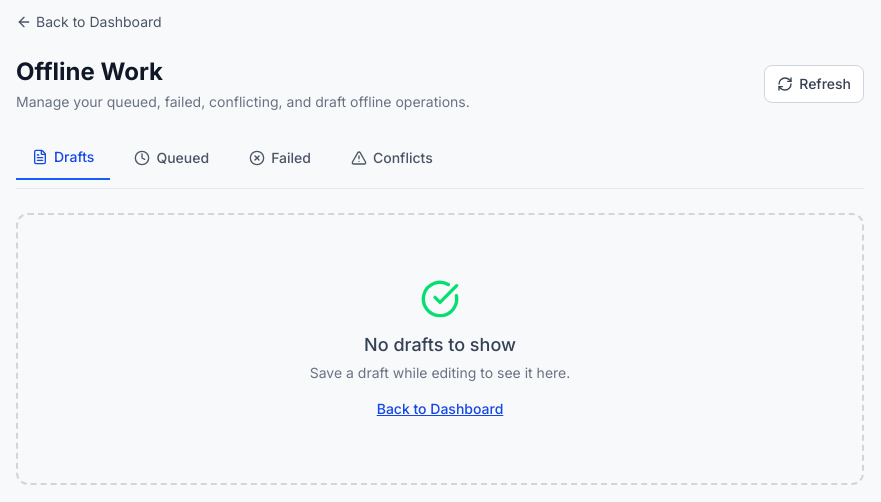
OfflineWorkPage › renders empty states for each section
The image size is (881, 502).
Check: the text "No drafts to show" is shown, box [364, 331, 516, 359]
Switch to Queued tab
Click the tab "Queued": (172, 158) [118, 136, 225, 180]
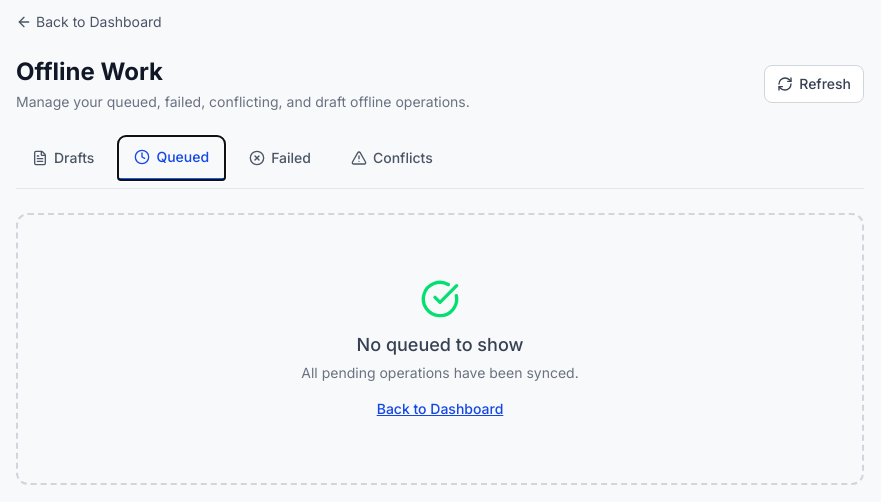
Check: the text "No queued to show" is shown, box [357, 331, 523, 359]
Switch to Failed tab
Click the tab "Failed": (280, 158) [233, 136, 327, 180]
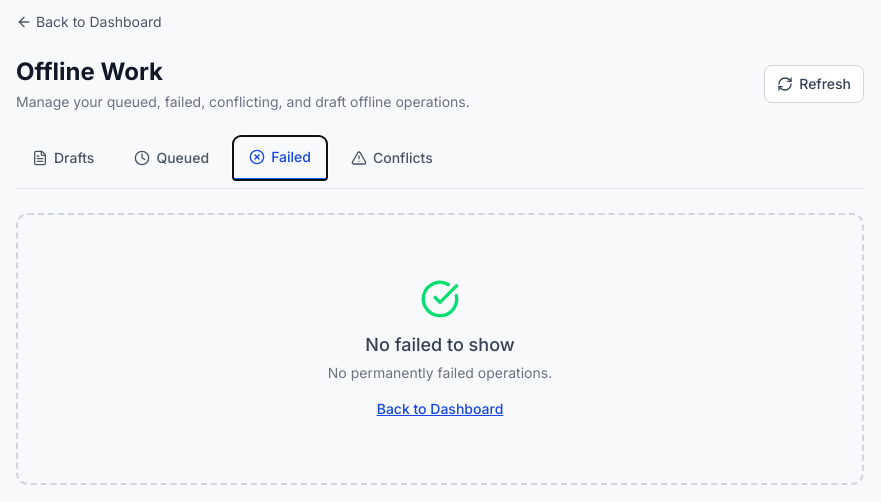
Check: the text "No failed to show" is shown, box [365, 331, 515, 359]
Switch to Conflicts tab
Click the tab "Conflicts": (392, 158) [335, 136, 449, 180]
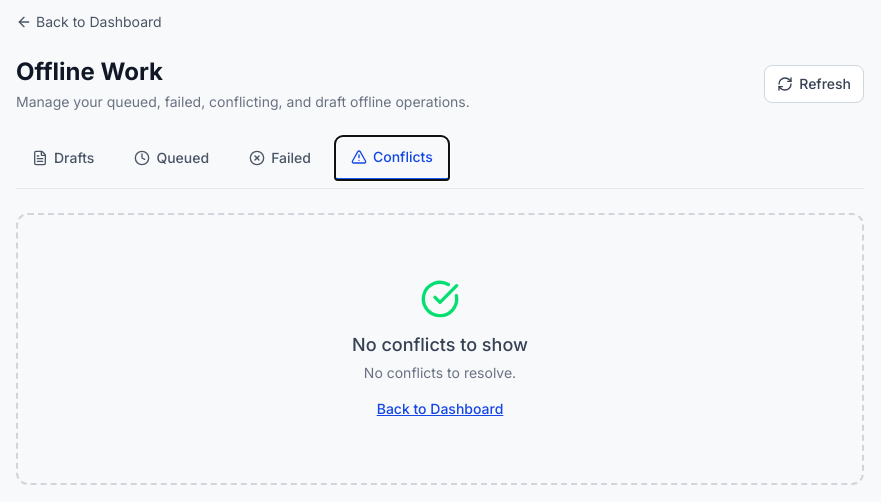
Check: the text "No conflicts to show" is shown, box [352, 331, 528, 359]
